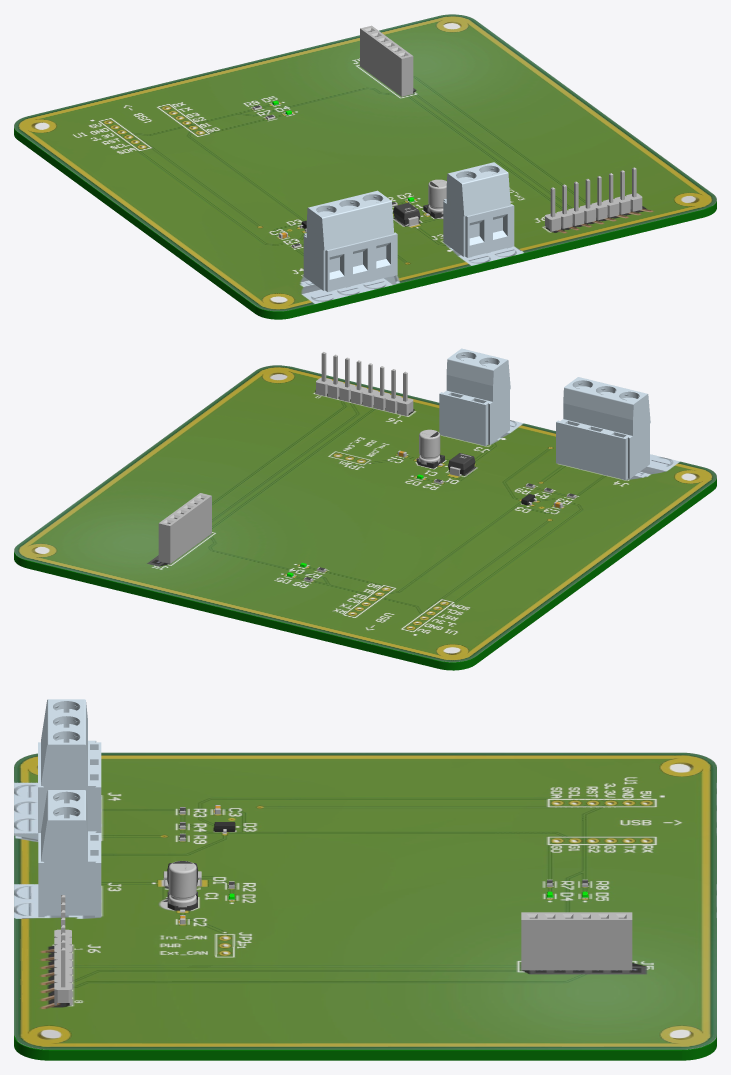
The model's file is telemetry-pcb.glb.
3 views of the same model, one above another, from view 1: azimuth 30°, elevation 25°; view 2: azimuth 150°, elevation 25°; view 3: azimuth 270°, elevation 25° (orthographic). The views are drawn at different scales.
Parts seen in each view (by area): view 1: top-art, board, Open CASCADE STEP translator 7.5 1.1.1, part, Cap_Panasonic_EEEFK1E100R_eec; view 2: top-art, board, Open CASCADE STEP translator 7.5 1.1.1, part, Cap_Panasonic_EEEFK1E100R_eec; view 3: top-art, board, Open CASCADE STEP translator 7.5 1.1.1, part, Cap_Panasonic_EEEFK1E100R_eec.
Part boxes in pixels (x1,y1,x2,y2): top-art: [14, 14, 716, 311]; board: [254, 105, 642, 291]; Open CASCADE STEP translator 7.5 1.1.1: [14, 127, 716, 319]; part: [360, 25, 413, 96]; Cap_Panasonic_EEEFK1E100R_eec: [428, 179, 446, 214]; top-art: [14, 365, 716, 662]; board: [304, 348, 650, 581]; Open CASCADE STEP translator 7.5 1.1.1: [14, 478, 716, 670]; part: [158, 493, 211, 563]; Cap_Panasonic_EEEFK1E100R_eec: [419, 429, 440, 464]; top-art: [14, 752, 716, 1049]; board: [38, 699, 587, 1005]; Open CASCADE STEP translator 7.5 1.1.1: [14, 1035, 716, 1060]; part: [521, 912, 632, 970]; Cap_Panasonic_EEEFK1E100R_eec: [168, 861, 196, 907].
Size of the model in its own units: 100 by 18.9 by 100.
14 materials, 1 textured.
